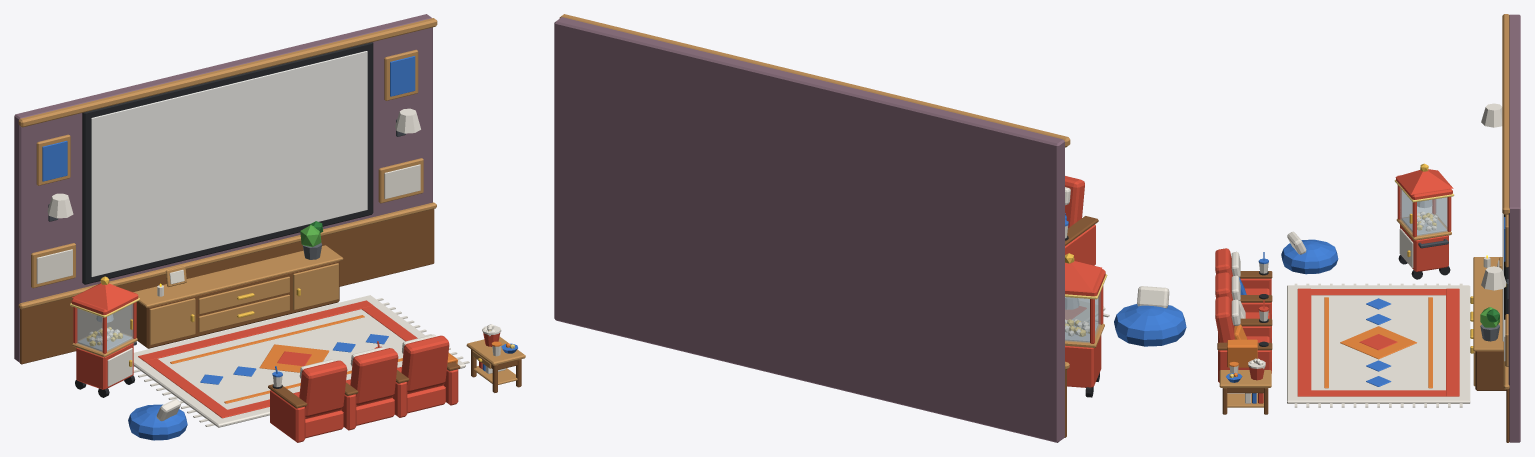
Rendered from cosy-home-theatre.glb.
3 renders of one model, left to right at view 1: azimuth 30°, elevation 25°; view 2: azimuth 150°, elevation 25°; view 3: azimuth 270°, elevation 25°, orthographic. The views are drawn at different scales.
Visible parts, largest first — view 1: Screen_Surface, Wall_Panel, Rug_Base, Wall_Wainscot, Screen_Frame, Wall_Crown, Console_Top, Wall_ChairRail, Console_Body, Backrest_1, Backrest_2, Backrest_3 (+31 smaller); view 2: Wall_Panel, Beanbag_Body, Wall_Crown, Cart_Body, Pane_Back, Roof_Cap, Armrest_4, Backrest_3, Beanbag_Pillow; view 3: Rug_Base, Wall_Panel, Console_Top, Rug_Border_S, Wall_Crown, Rug, Rug_Border_N, Beanbag_Body, Console_Body, Cart_Body, Pane_R, Rug_Medallion (+20 smaller).
Part boxes in pixels (x1=…): Screen_Surface: x1=91, y1=51, x2=367, y2=276; Wall_Panel: x1=14, y1=14, x2=432, y2=362; Rug_Base: x1=133, y1=295, x2=465, y2=427; Wall_Wainscot: x1=20, y1=209, x2=434, y2=364; Screen_Frame: x1=82, y1=42, x2=373, y2=284; Wall_Crown: x1=18, y1=18, x2=437, y2=127; Console_Top: x1=133, y1=245, x2=343, y2=307; Wall_ChairRail: x1=18, y1=202, x2=436, y2=309; Console_Body: x1=131, y1=261, x2=339, y2=348; Backrest_1: x1=401, y1=335, x2=449, y2=392; Backrest_2: x1=350, y1=348, x2=398, y2=404; Backrest_3: x1=299, y1=360, x2=347, y2=417; Wall_Panel: x1=554, y1=17, x2=1064, y2=442; Beanbag_Body: x1=1114, y1=304, x2=1186, y2=346; Wall_Crown: x1=559, y1=14, x2=1070, y2=147; Cart_Body: x1=1065, y1=335, x2=1101, y2=387; Pane_Back: x1=1065, y1=297, x2=1089, y2=342; Roof_Cap: x1=1065, y1=261, x2=1101, y2=291; Armrest_4: x1=1065, y1=224, x2=1095, y2=265; Backrest_3: x1=1065, y1=176, x2=1084, y2=227; Beanbag_Pillow: x1=1137, y1=286, x2=1169, y2=308; Rug_Base: x1=1287, y1=285, x2=1470, y2=403; Wall_Panel: x1=1508, y1=14, x2=1520, y2=442; Console_Top: x1=1473, y1=257, x2=1503, y2=351; Rug_Border_S: x1=1297, y1=288, x2=1311, y2=396; Wall_Crown: x1=1502, y1=14, x2=1509, y2=214; Rug: x1=1324, y1=297, x2=1432, y2=388; Rug_Border_N: x1=1446, y1=288, x2=1459, y2=396; Beanbag_Body: x1=1281, y1=239, x2=1338, y2=274; Console_Body: x1=1475, y1=351, x2=1506, y2=390; Cart_Body: x1=1400, y1=225, x2=1448, y2=271; Pane_R: x1=1417, y1=197, x2=1447, y2=236; Rug_Medallion: x1=1340, y1=326, x2=1416, y2=359.
Bounding box in the file's own units: 30.2 × 17 × 19.99.
